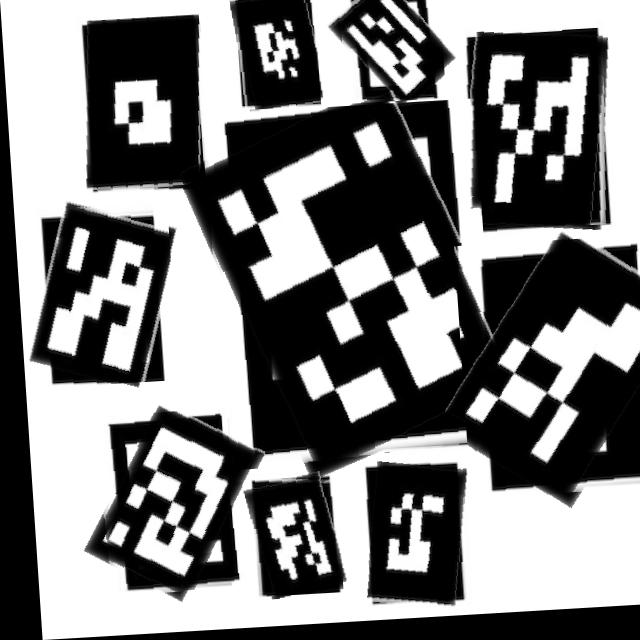aruco: (198, 104, 491, 474), (450, 242, 640, 508), (459, 35, 613, 240), (87, 411, 241, 599), (25, 202, 174, 388), (78, 17, 207, 197), (356, 465, 463, 615), (335, 0, 444, 108), (241, 477, 335, 600), (232, 0, 320, 113)
